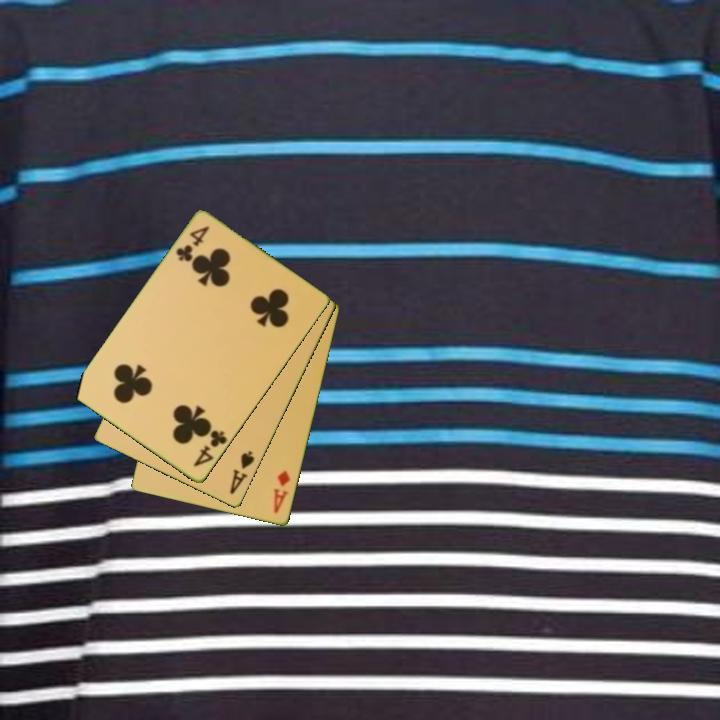4c: (190, 427, 230, 470), (172, 223, 212, 265)
Ad: (270, 467, 293, 517)
As: (226, 447, 258, 498)
